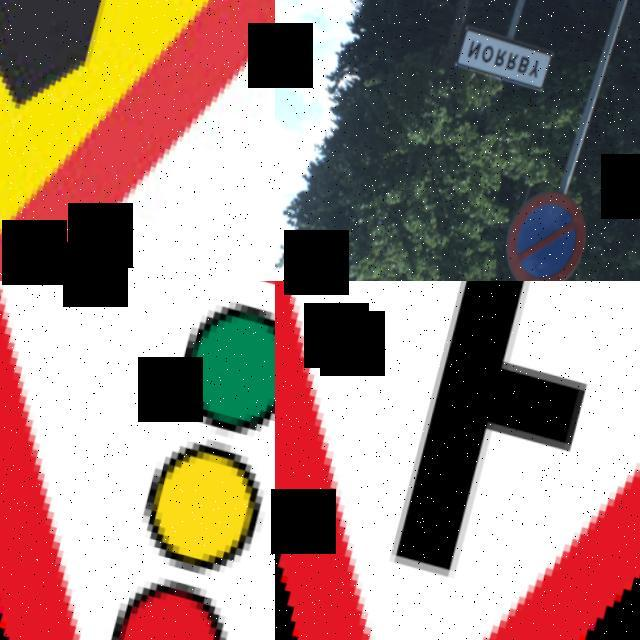166: (0, 0, 275, 281)
171: (452, 16, 562, 94)
27: (492, 164, 607, 281)
Side road junction: (275, 281, 640, 640)
Traffic signals: (0, 281, 275, 640)
